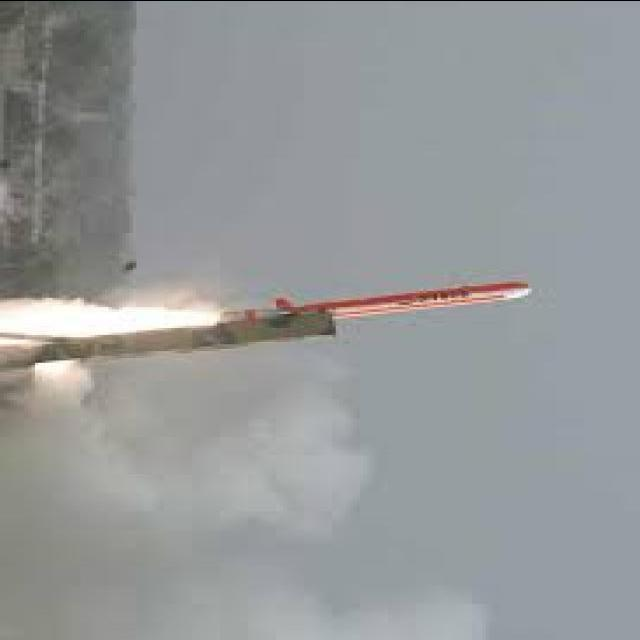missile: (219, 278, 534, 319)
